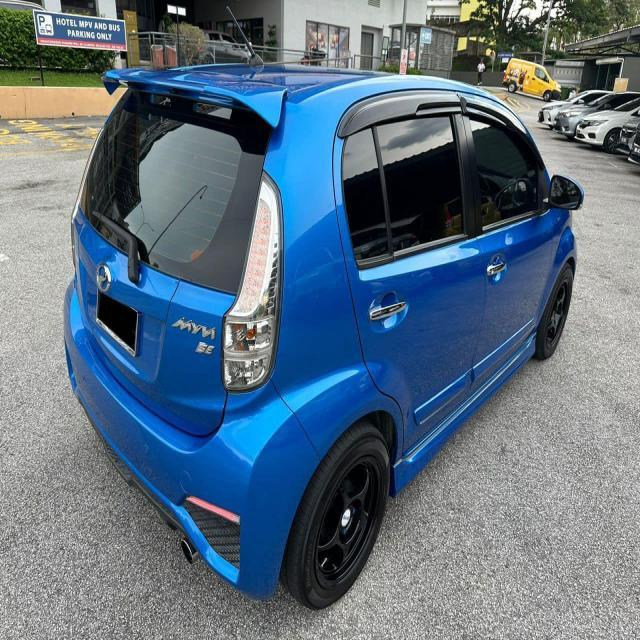PeroduaMyvi: (61, 56, 584, 611)
